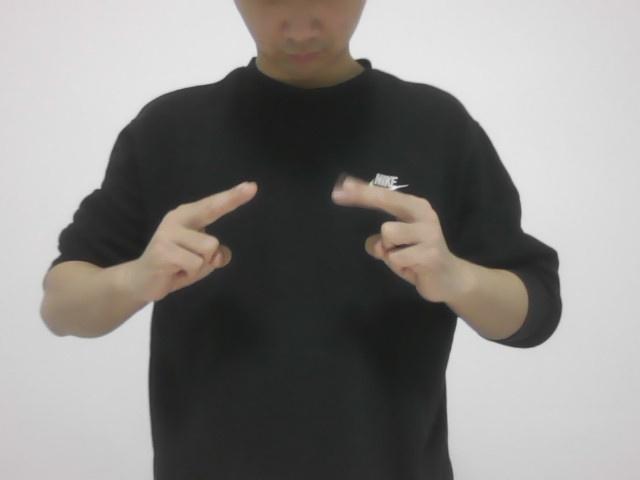know: (138, 166, 462, 318)
